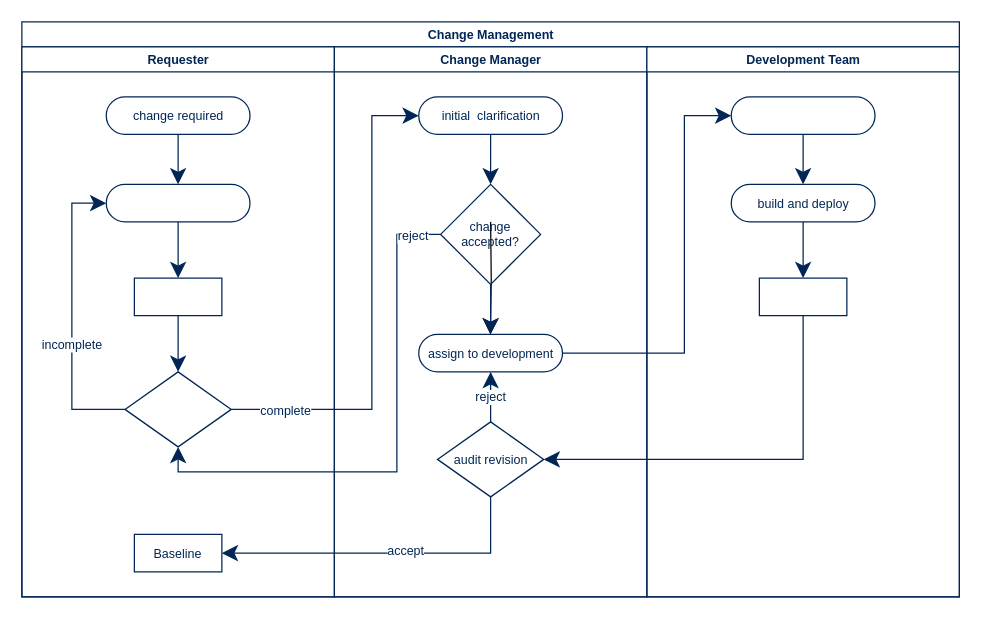
Some shapes in this 981 by 619 pixel diagram are drawn without their labels. The centre of each missing label's shape, as x and y in pixels:
"change request" belongs at [177,296].
"CR complete?" belongs at [177,409].
"identify change for items" belongs at [177,202].
"implement changes" belongs at [802,115].
"Revision" belongs at [802,296].
